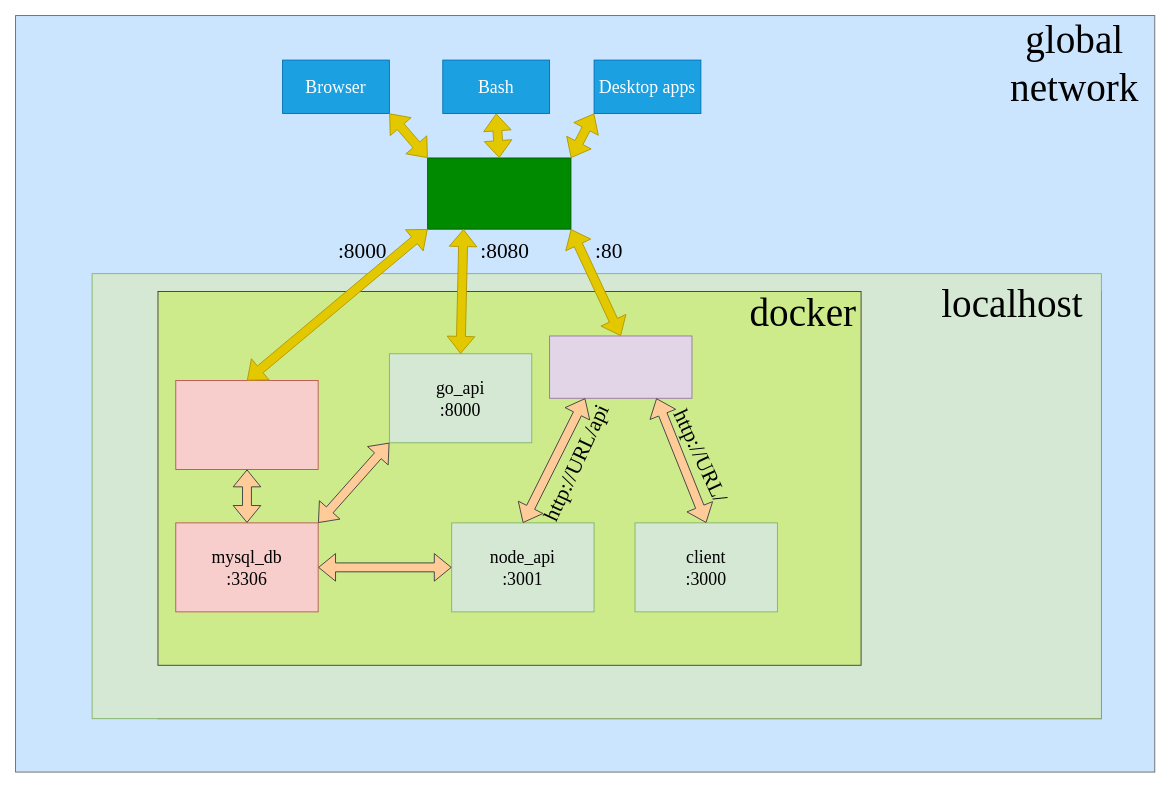
Some shapes in this 1170 by 788 pixel diagram are drawn without their labels. Each missing label, with the centre of its shape:
adminer :8080: point (246, 424)
Exposed services: point (499, 193)
nginx :80: point (620, 366)
